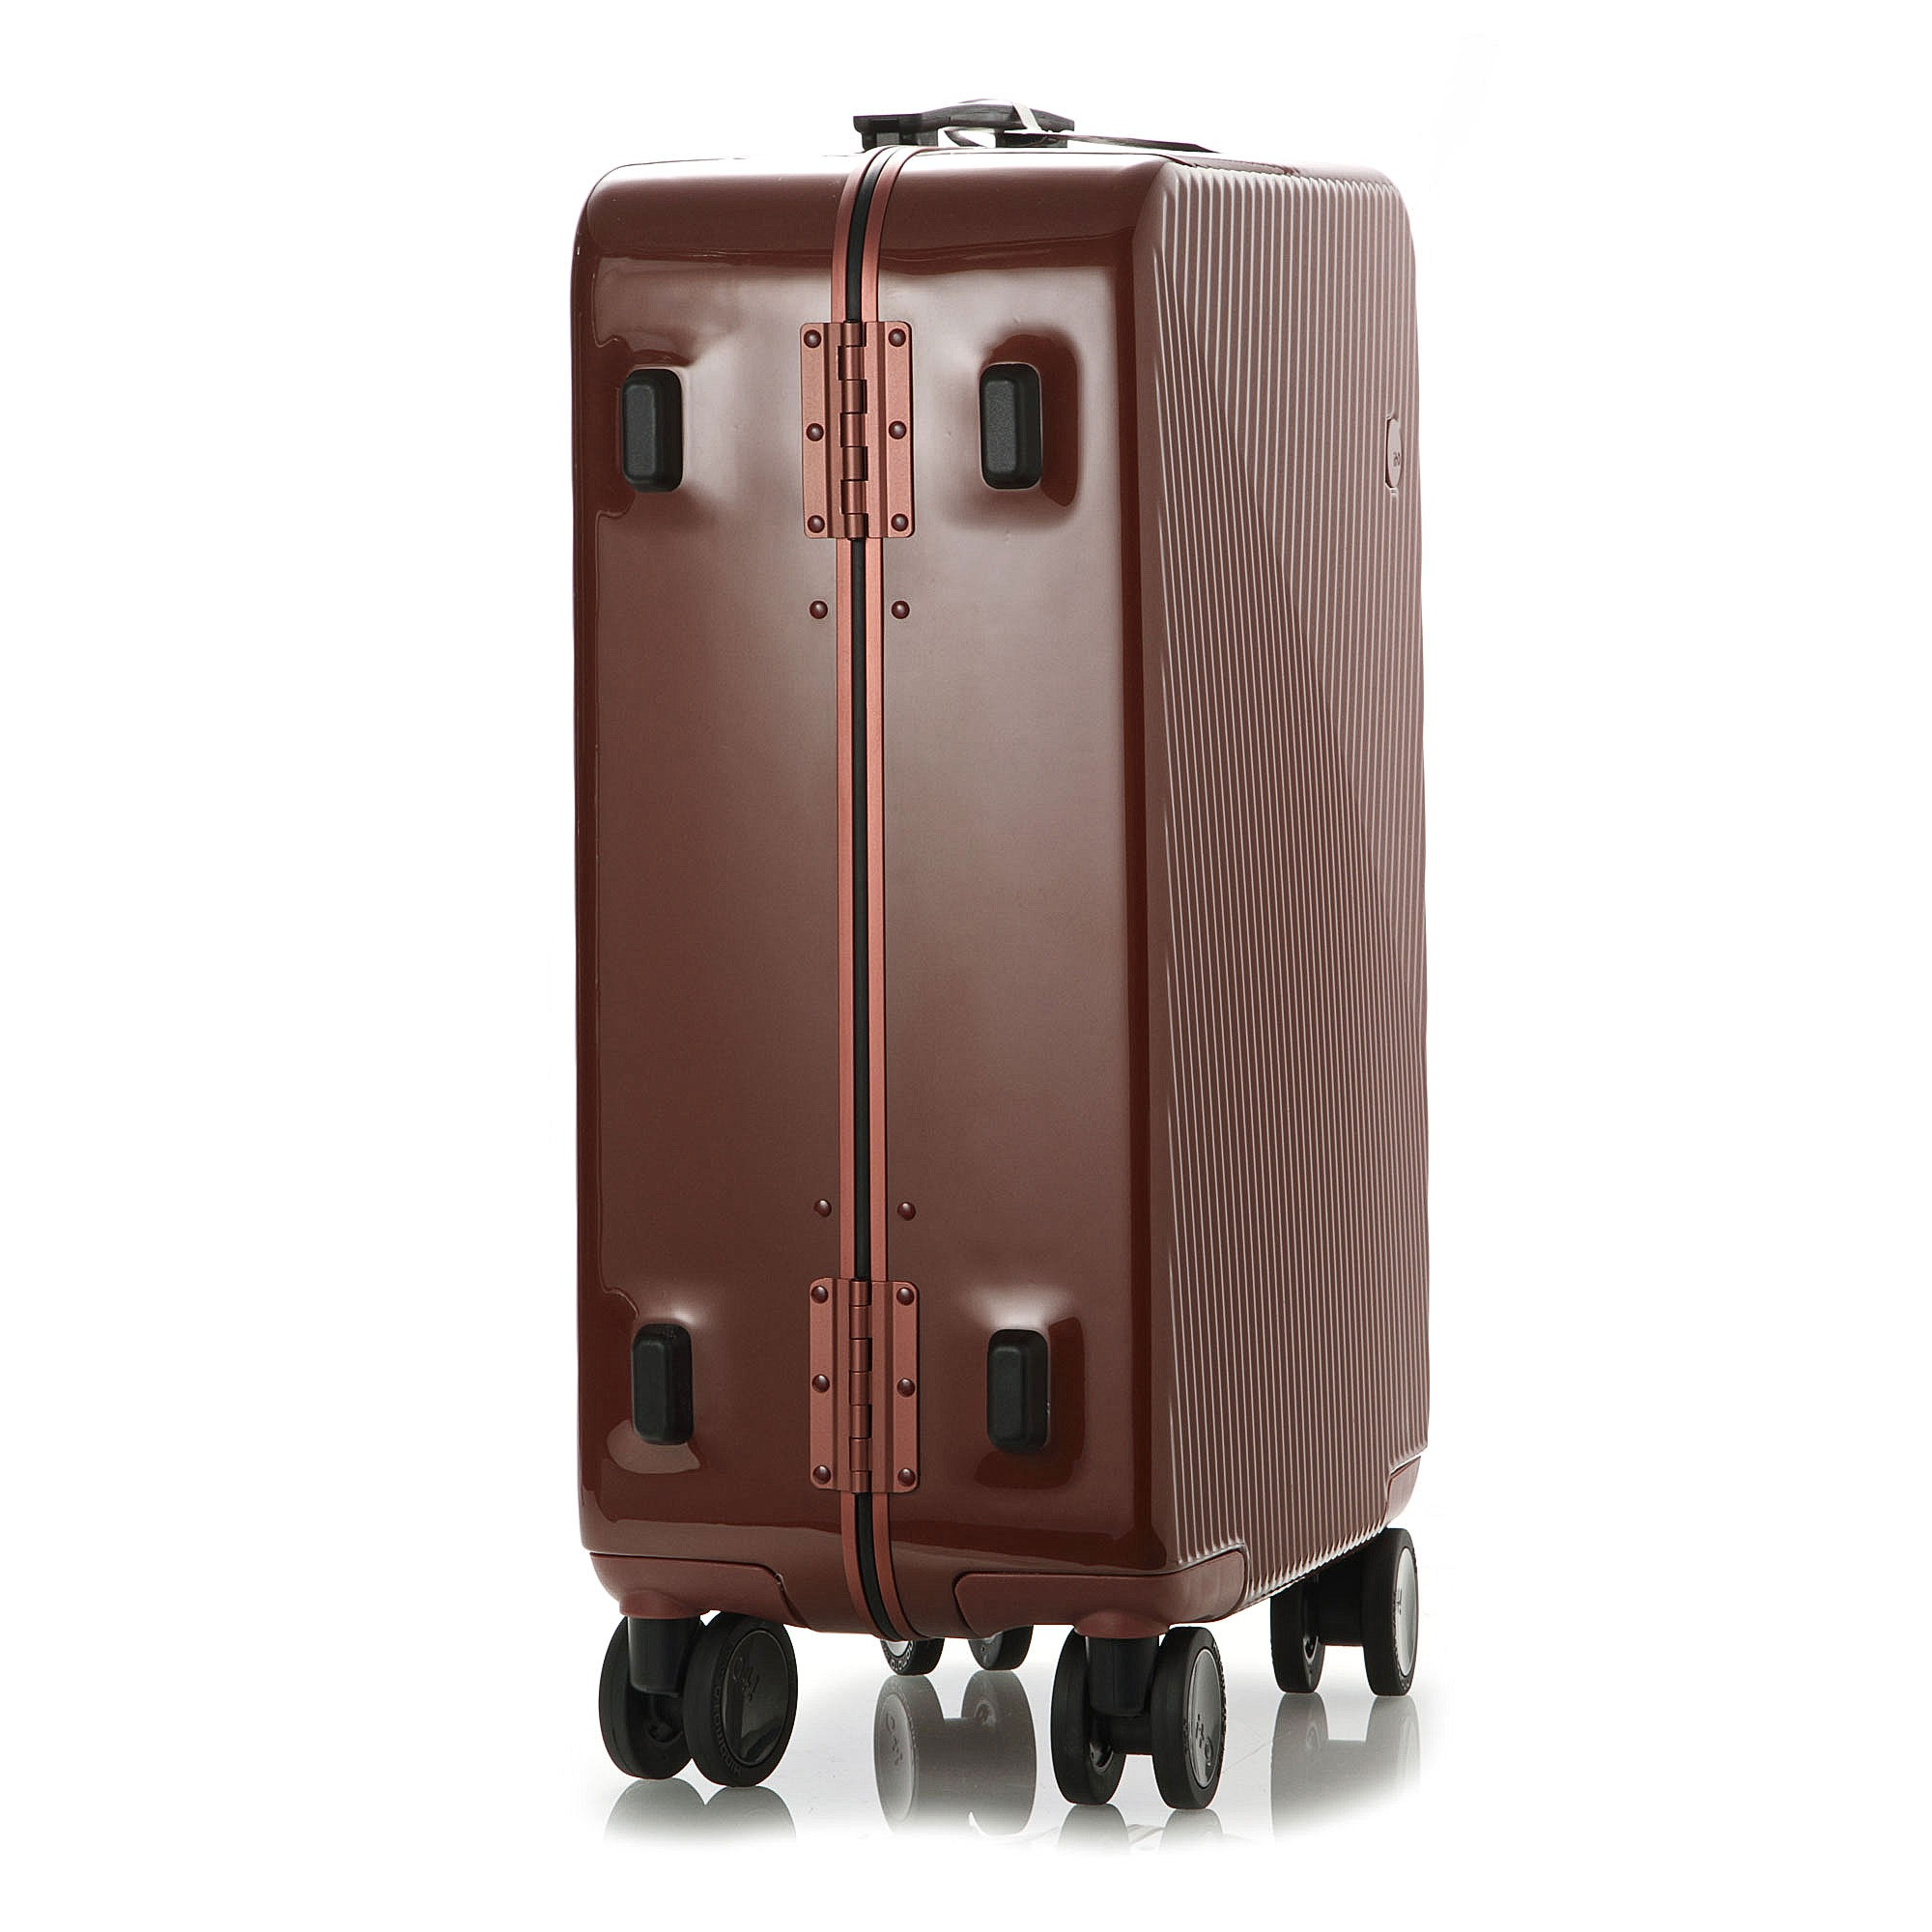suitcase: (568, 106, 1437, 1815)
